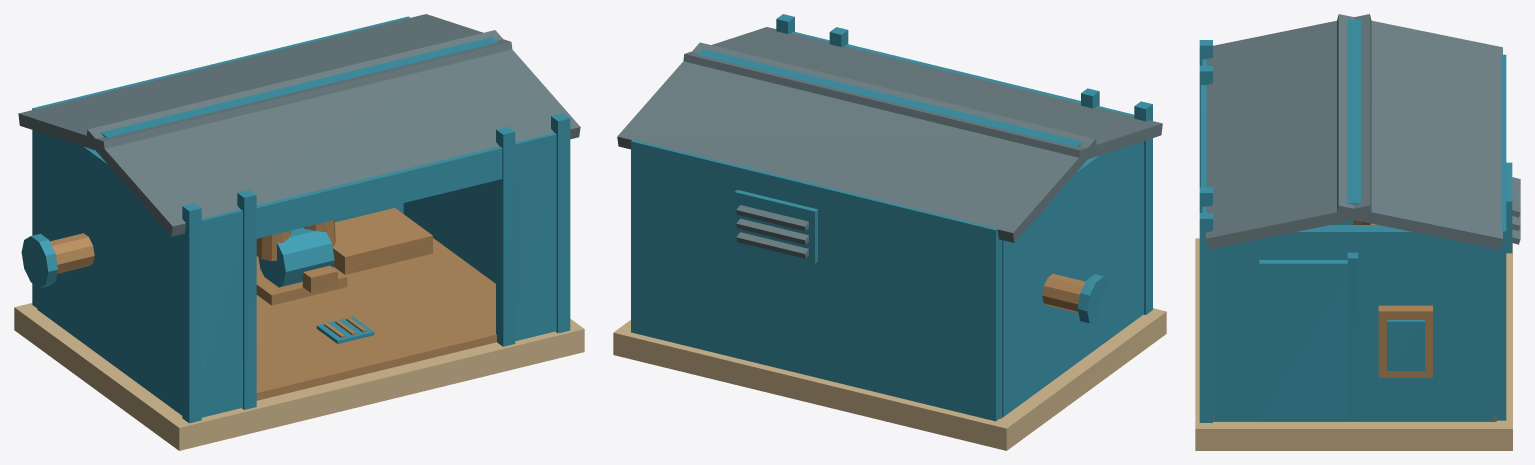
The model's file is juicery.source.glb.
The picture shows the model from 3 angles, left to right: view 1: azimuth 30°, elevation 25°; view 2: azimuth 150°, elevation 25°; view 3: azimuth 270°, elevation 25°; orthographic projection. The views are drawn at different scales.
Visible parts, largest first — view 1: juicery-shallow-roof-slope-0.48-mesh, juicery-left-insulated-wall-mesh, juicery-washable-service-floor-mesh, juicery-shallow-roof-slope--0.48-mesh, juicery-washable-stone-foundation-mesh, juicery-open-process-header-mesh, juicery-front-left-return-mesh, juicery-front-right-return-mesh, juicery-right-insulated-wall-mesh, juicery-empty-fill-bay-catch-tray-mesh, juicery-front-technical-post--1.51-mesh, juicery-front-technical-post-1.06-mesh (+11 smaller); view 2: juicery-rear-insulated-wall-mesh, juicery-shallow-roof-slope--0.48-mesh, juicery-left-insulated-wall-mesh, juicery-shallow-roof-slope-0.48-mesh, juicery-washable-stone-foundation-mesh, juicery-roof-ridge-mesh, juicery-high-cooling-louver-back-mesh, juicery-front-technical-post--1.51-mesh, juicery-juice-inlet-flange-mesh, juicery-exterior-juice-inlet-port-mesh, juicery-open-process-header-mesh, juicery-cooling-louver-slat-1.32-mesh (+2 smaller); view 3: juicery-right-insulated-wall-mesh, juicery-shallow-roof-slope--0.48-mesh, juicery-shallow-roof-slope-0.48-mesh, juicery-service-door-panel-mesh, juicery-washable-stone-foundation-mesh, juicery-rear-insulated-wall-mesh, juicery-front-technical-post-1.51-mesh, juicery-roof-ridge-mesh, juicery-exterior-power-service-box-mesh, juicery-service-door-edge-mesh, juicery-power-box-face-mesh, juicery-high-cooling-louver-back-mesh (+4 smaller).
Part boxes in pixels (left/top/right/bottom): juicery-shallow-roof-slope-0.48-mesh: left=86, top=30, right=580, bottom=236; juicery-left-insulated-wall-mesh: left=37, top=132, right=182, bottom=415; juicery-washable-service-floor-mesh: left=37, top=238, right=496, bottom=400; juicery-shallow-roof-slope--0.48-mesh: left=18, top=14, right=512, bottom=153; juicery-washable-stone-foundation-mesh: left=14, top=303, right=584, bottom=450; juicery-open-process-header-mesh: left=256, top=146, right=502, bottom=238; juicery-front-left-return-mesh: left=201, top=209, right=242, bottom=417; juicery-front-right-return-mesh: left=515, top=133, right=556, bottom=340; juicery-right-insulated-wall-mesh: left=403, top=180, right=495, bottom=283; juicery-empty-fill-bay-catch-tray-mesh: left=332, top=208, right=432, bottom=274; juicery-front-technical-post--1.51-mesh: left=182, top=203, right=201, bottom=423; juicery-front-technical-post-1.06-mesh: left=496, top=126, right=515, bottom=346; juicery-rear-insulated-wall-mesh: left=631, top=140, right=1001, bottom=421; juicery-shallow-roof-slope--0.48-mesh: left=617, top=42, right=1096, bottom=242; juicery-left-insulated-wall-mesh: left=1002, top=141, right=1143, bottom=416; juicery-shallow-roof-slope-0.48-mesh: left=683, top=27, right=1162, bottom=159; juicery-washable-stone-foundation-mesh: left=613, top=308, right=1166, bottom=450; juicery-roof-ridge-mesh: left=697, top=49, right=1082, bottom=146; juicery-high-cooling-louver-back-mesh: left=734, top=189, right=817, bottom=263; juicery-front-technical-post--1.51-mesh: left=1134, top=101, right=1152, bottom=314; juicery-juice-inlet-flange-mesh: left=1077, top=274, right=1112, bottom=326; juicery-exterior-juice-inlet-port-mesh: left=1042, top=273, right=1085, bottom=312; juicery-open-process-header-mesh: left=845, top=44, right=1080, bottom=103; juicery-cooling-louver-slat-1.32-mesh: left=736, top=218, right=808, bottom=244; juicery-right-insulated-wall-mesh: left=1214, top=225, right=1493, bottom=421; juicery-shallow-roof-slope--0.48-mesh: left=1336, top=14, right=1502, bottom=249; juicery-shallow-roof-slope-0.48-mesh: left=1205, top=14, right=1371, bottom=249; juicery-service-door-panel-mesh: left=1259, top=260, right=1347, bottom=418; juicery-washable-stone-foundation-mesh: left=1195, top=238, right=1512, bottom=450; juicery-rear-insulated-wall-mesh: left=1494, top=54, right=1506, bottom=420; juicery-front-technical-post-1.51-mesh: left=1199, top=213, right=1212, bottom=422; juicery-roof-ridge-mesh: left=1347, top=19, right=1361, bottom=204; juicery-exterior-power-service-box-mesh: left=1378, top=305, right=1432, bottom=377; juicery-service-door-edge-mesh: left=1347, top=252, right=1358, bottom=420; juicery-power-box-face-mesh: left=1387, top=320, right=1424, bottom=370; juicery-high-cooling-louver-back-mesh: left=1506, top=162, right=1512, bottom=253.
Bounding box in the file's own units: 3.65 × 2 × 2.39.
